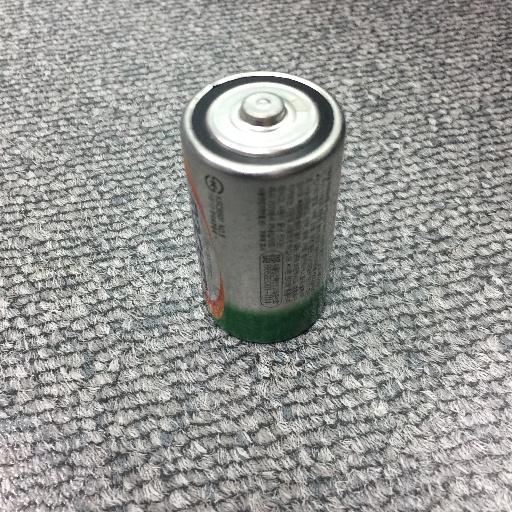Battery_0: (151, 48, 352, 347)
